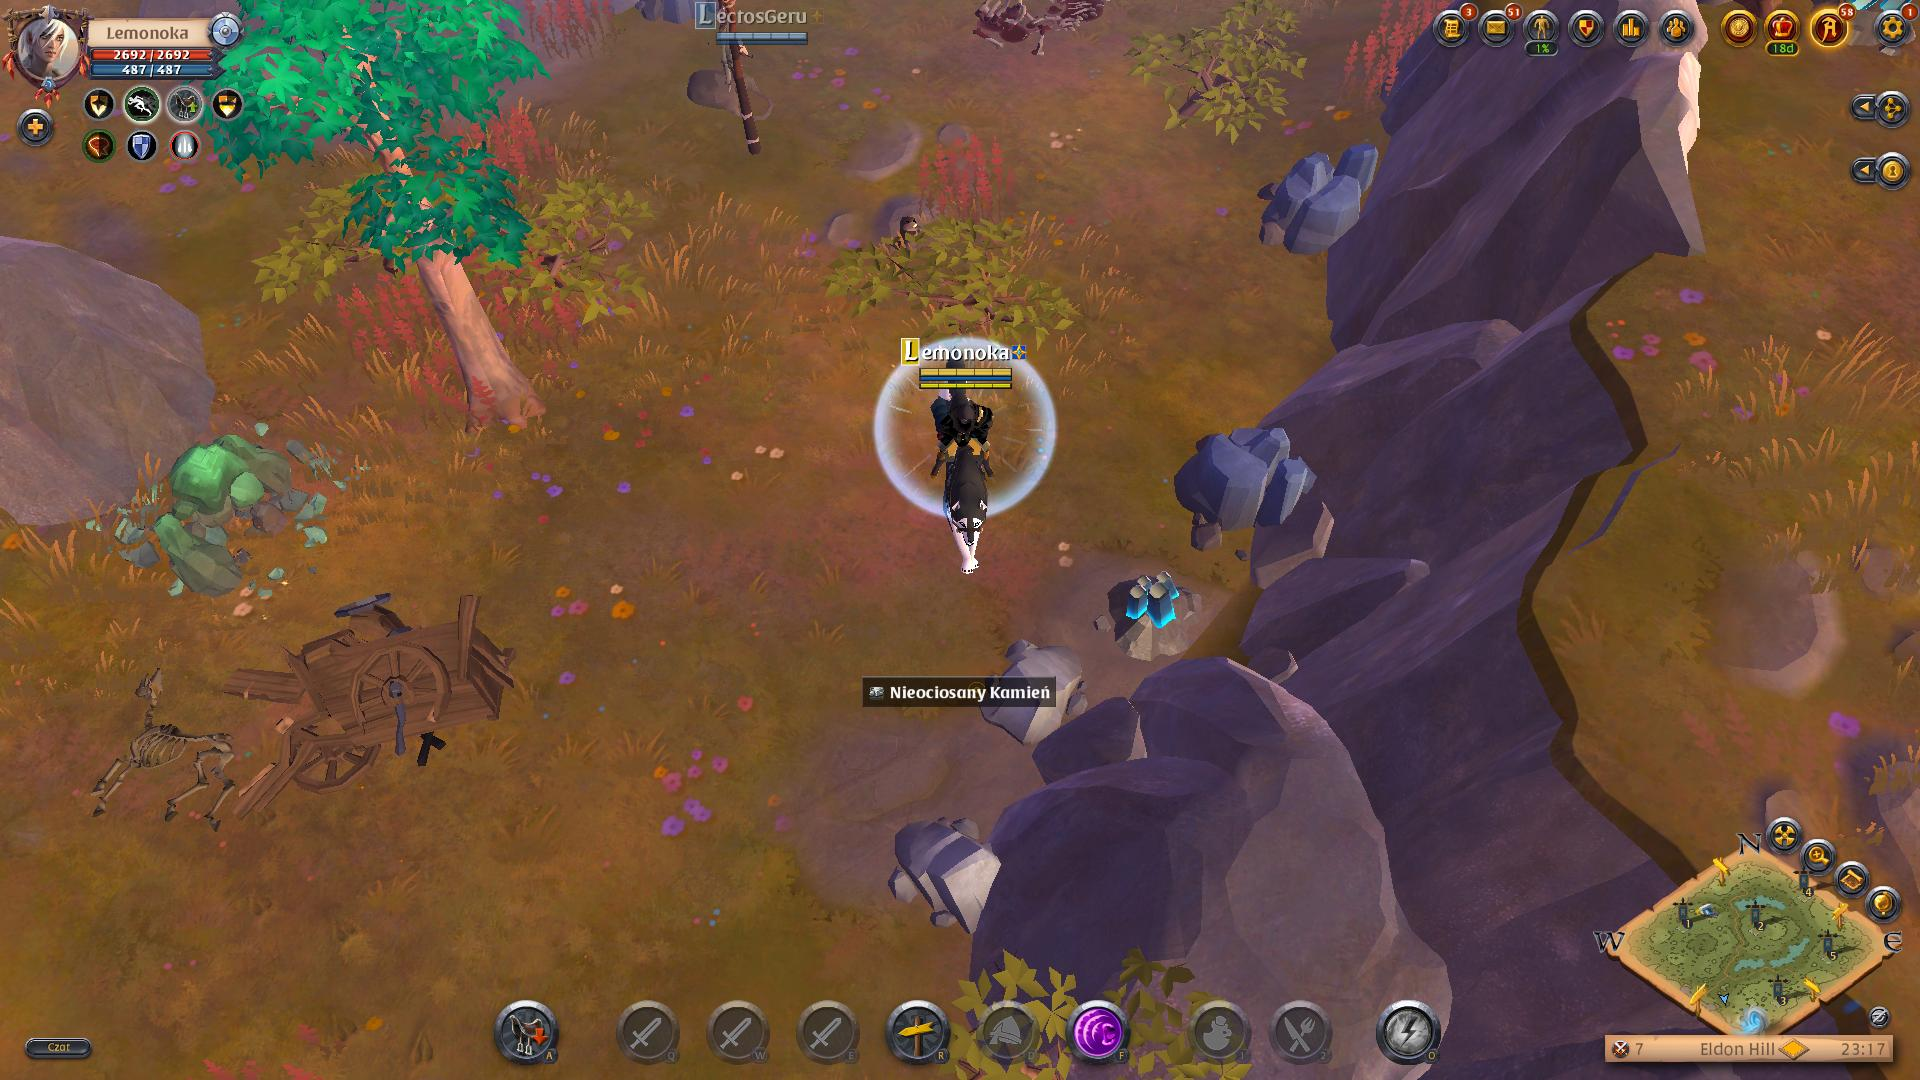ore tier 4: (1098, 572, 1204, 663)
rock tier 1: (889, 812, 1009, 936), (980, 637, 1091, 741)
rock tier 4: (1179, 423, 1324, 551), (1246, 144, 1383, 257)
